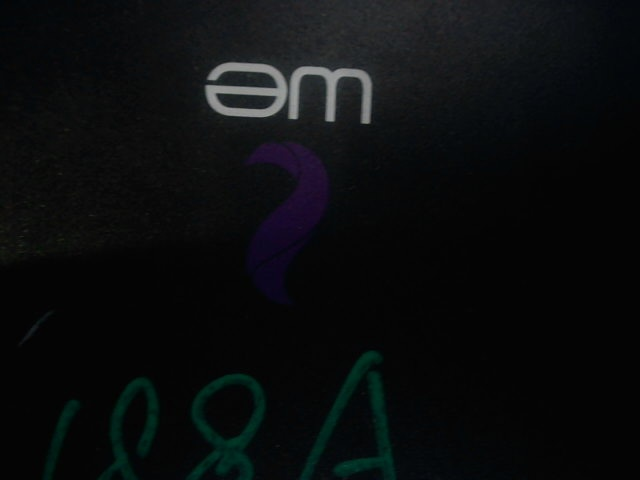AT_We: (196, 57, 390, 311)
